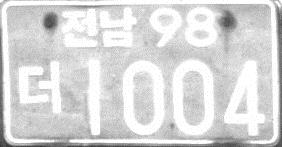0: (169, 56, 216, 136), (120, 60, 166, 136)
1: (85, 58, 104, 136)
4: (220, 56, 266, 138)
8: (183, 5, 219, 48)
9: (148, 5, 183, 48)
더: (15, 59, 63, 115)
전남_O: (60, 5, 139, 49)
